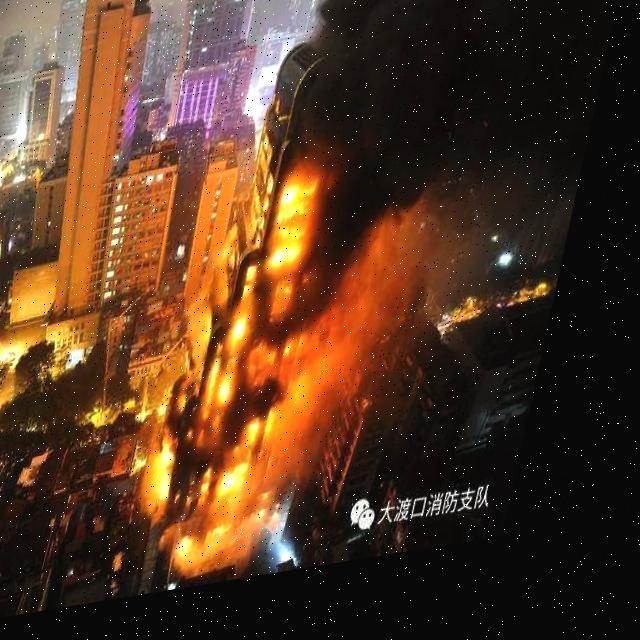Fire: (158, 157, 373, 584)
